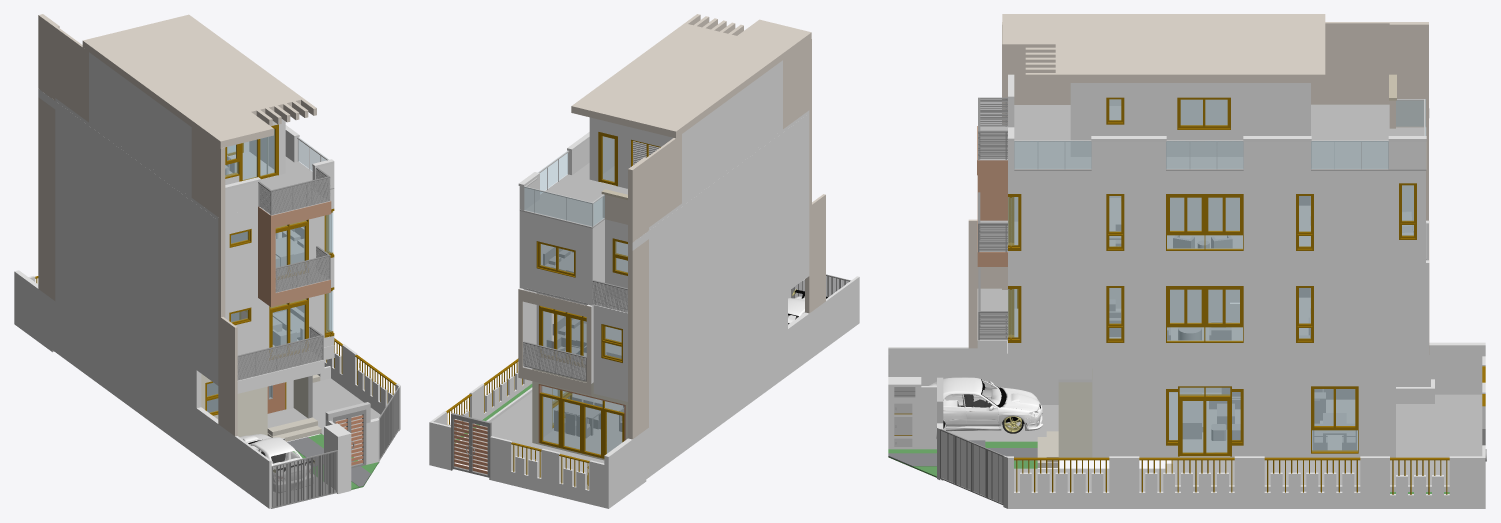
File: HRK-FACADE-CĂN GÓC.glb
3 renders of one model, left to right at view 1: azimuth 30°, elevation 25°; view 2: azimuth 150°, elevation 25°; view 3: azimuth 270°, elevation 25°, orthographic. The views are drawn at different scales.
Parts seen in each view (by area): view 1: 9f1be66f-a72d-4cb7-8f17-6aa5466b919a-0011a7d4, ce48a332-5fb9-41d7-bf43-f49f25e04282-0010e175, e9e7533d-464c-4b0a-9033-7b93ad9df9bf-0011403b, 9f1be66f-a72d-4cb7-8f17-6aa5466b919a-0011a66c, 64d2e1cd-0090-46f3-8e4e-a054eb2efe63-0011b380, 9f1be66f-a72d-4cb7-8f17-6aa5466b919a-00118034, 9f1be66f-a72d-4cb7-8f17-6aa5466b919a-00117d1a, 0900786a-a151-4b64-99f7-fdf035c693b2-0010f069, 7dcb7ff3-d3c4-4fcb-b3ba-6ca6c460f303-0011351b, 0900786a-a151-4b64-99f7-fdf035c693b2-0010ec28, 64d2e1cd-0090-46f3-8e4e-a054eb2efe63-0011b5e0, 7dcb7ff3-d3c4-4fcb-b3ba-6ca6c460f303-00113525 (+37 smaller); view 2: 9f1be66f-a72d-4cb7-8f17-6aa5466b919a-0011a7d4, ce48a332-5fb9-41d7-bf43-f49f25e04282-0010e175, e9e7533d-464c-4b0a-9033-7b93ad9df9bf-0011403b, 9f1be66f-a72d-4cb7-8f17-6aa5466b919a-0011a66c, 64d2e1cd-0090-46f3-8e4e-a054eb2efe63-0011b380, 9f1be66f-a72d-4cb7-8f17-6aa5466b919a-00118034, 0900786a-a151-4b64-99f7-fdf035c693b2-0010ea1b, 9f1be66f-a72d-4cb7-8f17-6aa5466b919a-0011a4a5, 9f1be66f-a72d-4cb7-8f17-6aa5466b919a-0011ad8f, 6e281f37-0f9f-4d19-a6f6-cd96ec0fa570-0011287f, 7dcb7ff3-d3c4-4fcb-b3ba-6ca6c460f303-00113519, ce48a332-5fb9-41d7-bf43-f49f25e04282-0010df2f (+37 smaller); view 3: 9f1be66f-a72d-4cb7-8f17-6aa5466b919a-00117d16, 7dcb7ff3-d3c4-4fcb-b3ba-6ca6c460f303-00113515, 9f1be66f-a72d-4cb7-8f17-6aa5466b919a-0011a7d4, 8a154fc6-39ca-4856-86d8-3f3ef4961fe0-00110d86, 64d2e1cd-0090-46f3-8e4e-a054eb2efe63-0011b040, 9f1be66f-a72d-4cb7-8f17-6aa5466b919a-0011ad8f, 6e281f37-0f9f-4d19-a6f6-cd96ec0fa570-0011287f, 3c91b328-e380-4686-b2d0-b7ee0a9fd524-00115586, 64d2e1cd-0090-46f3-8e4e-a054eb2efe63-0011b5e0, 9674467b-f620-4135-b89d-0ebe839a4f87-0012996c, 7dcb7ff3-d3c4-4fcb-b3ba-6ca6c460f303-00113521, 9f1be66f-a72d-4cb7-8f17-6aa5466b919a-00117d20 (+61 smaller).
Boxes of the visible parts, x1=… form: 9f1be66f-a72d-4cb7-8f17-6aa5466b919a-0011a7d4: x1=82, y1=14, x2=316, y2=148; ce48a332-5fb9-41d7-bf43-f49f25e04282-0010e175: x1=55, y1=255, x2=201, y2=455; e9e7533d-464c-4b0a-9033-7b93ad9df9bf-0011403b: x1=55, y1=177, x2=218, y2=373; 9f1be66f-a72d-4cb7-8f17-6aa5466b919a-0011a66c: x1=55, y1=98, x2=218, y2=295; 64d2e1cd-0090-46f3-8e4e-a054eb2efe63-0011b380: x1=89, y1=52, x2=188, y2=195; 9f1be66f-a72d-4cb7-8f17-6aa5466b919a-00118034: x1=38, y1=14, x2=59, y2=300; 9f1be66f-a72d-4cb7-8f17-6aa5466b919a-00117d1a: x1=225, y1=207, x2=324, y2=293; 0900786a-a151-4b64-99f7-fdf035c693b2-0010f069: x1=271, y1=450, x2=337, y2=508; 7dcb7ff3-d3c4-4fcb-b3ba-6ca6c460f303-0011351b: x1=225, y1=286, x2=329, y2=355; 0900786a-a151-4b64-99f7-fdf035c693b2-0010ec28: x1=221, y1=426, x2=271, y2=508; 64d2e1cd-0090-46f3-8e4e-a054eb2efe63-0011b5e0: x1=55, y1=27, x2=88, y2=122; 7dcb7ff3-d3c4-4fcb-b3ba-6ca6c460f303-00113525: x1=237, y1=326, x2=323, y2=380; 9f1be66f-a72d-4cb7-8f17-6aa5466b919a-0011a7d4: x1=571, y1=14, x2=811, y2=138; ce48a332-5fb9-41d7-bf43-f49f25e04282-0010e175: x1=649, y1=280, x2=787, y2=477; e9e7533d-464c-4b0a-9033-7b93ad9df9bf-0011403b: x1=649, y1=188, x2=809, y2=381; 9f1be66f-a72d-4cb7-8f17-6aa5466b919a-0011a66c: x1=649, y1=110, x2=809, y2=304; 64d2e1cd-0090-46f3-8e4e-a054eb2efe63-0011b380: x1=682, y1=62, x2=780, y2=202; 9f1be66f-a72d-4cb7-8f17-6aa5466b919a-00118034: x1=628, y1=157, x2=648, y2=439; 0900786a-a151-4b64-99f7-fdf035c693b2-0010ea1b: x1=538, y1=384, x2=625, y2=458; 9f1be66f-a72d-4cb7-8f17-6aa5466b919a-0011a4a5: x1=524, y1=212, x2=587, y2=303; 9f1be66f-a72d-4cb7-8f17-6aa5466b919a-0011ad8f: x1=519, y1=163, x2=627, y2=228; 6e281f37-0f9f-4d19-a6f6-cd96ec0fa570-0011287f: x1=455, y1=389, x2=604, y2=489; 7dcb7ff3-d3c4-4fcb-b3ba-6ca6c460f303-00113519: x1=593, y1=304, x2=627, y2=401; ce48a332-5fb9-41d7-bf43-f49f25e04282-0010df2f: x1=604, y1=430, x2=646, y2=508; 9f1be66f-a72d-4cb7-8f17-6aa5466b919a-00117d16: x1=1008, y1=171, x2=1425, y2=262; 7dcb7ff3-d3c4-4fcb-b3ba-6ca6c460f303-00113515: x1=1008, y1=263, x2=1389, y2=354; 9f1be66f-a72d-4cb7-8f17-6aa5466b919a-0011a7d4: x1=1002, y1=14, x2=1325, y2=82; 8a154fc6-39ca-4856-86d8-3f3ef4961fe0-00110d86: x1=1092, y1=368, x2=1389, y2=457; 64d2e1cd-0090-46f3-8e4e-a054eb2efe63-0011b040: x1=1077, y1=83, x2=1310, y2=156; 9f1be66f-a72d-4cb7-8f17-6aa5466b919a-0011ad8f: x1=977, y1=104, x2=1426, y2=170; 6e281f37-0f9f-4d19-a6f6-cd96ec0fa570-0011287f: x1=1173, y1=394, x2=1482, y2=485; 3c91b328-e380-4686-b2d0-b7ee0a9fd524-00115586: x1=1007, y1=355, x2=1428, y2=368; 64d2e1cd-0090-46f3-8e4e-a054eb2efe63-0011b5e0: x1=1311, y1=22, x2=1389, y2=104; 9674467b-f620-4135-b89d-0ebe839a4f87-0012996c: x1=928, y1=377, x2=1043, y2=433; 7dcb7ff3-d3c4-4fcb-b3ba-6ca6c460f303-00113521: x1=1166, y1=286, x2=1243, y2=342; 9f1be66f-a72d-4cb7-8f17-6aa5466b919a-00117d20: x1=1166, y1=194, x2=1243, y2=250.
Size of the model in its own units: 8.26 by 14.5 by 20.03.
